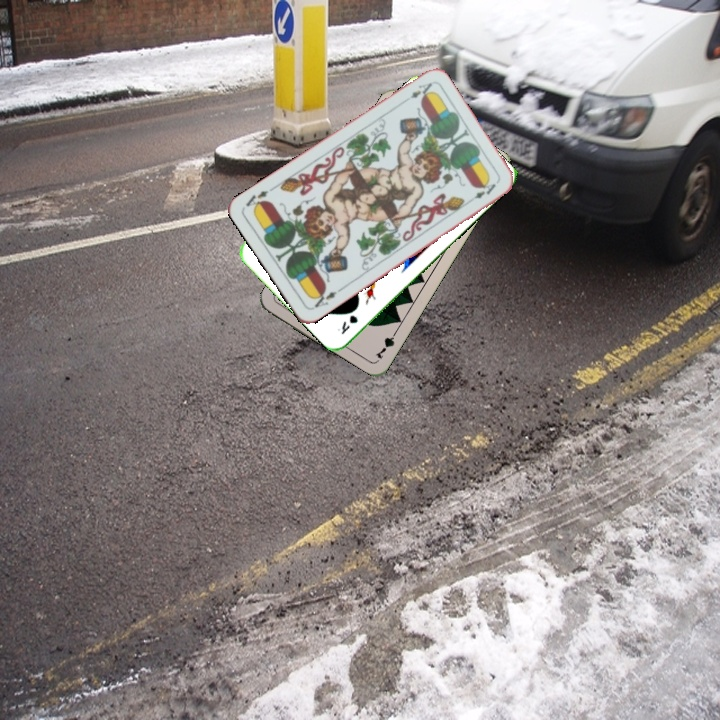EA: (398, 78, 435, 106), (308, 284, 345, 310)
G7: (371, 325, 401, 362)
GK: (333, 311, 361, 337)
